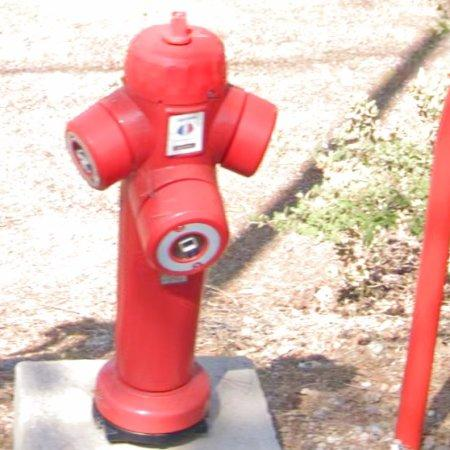a fire hydrant: (65, 12, 277, 441)
